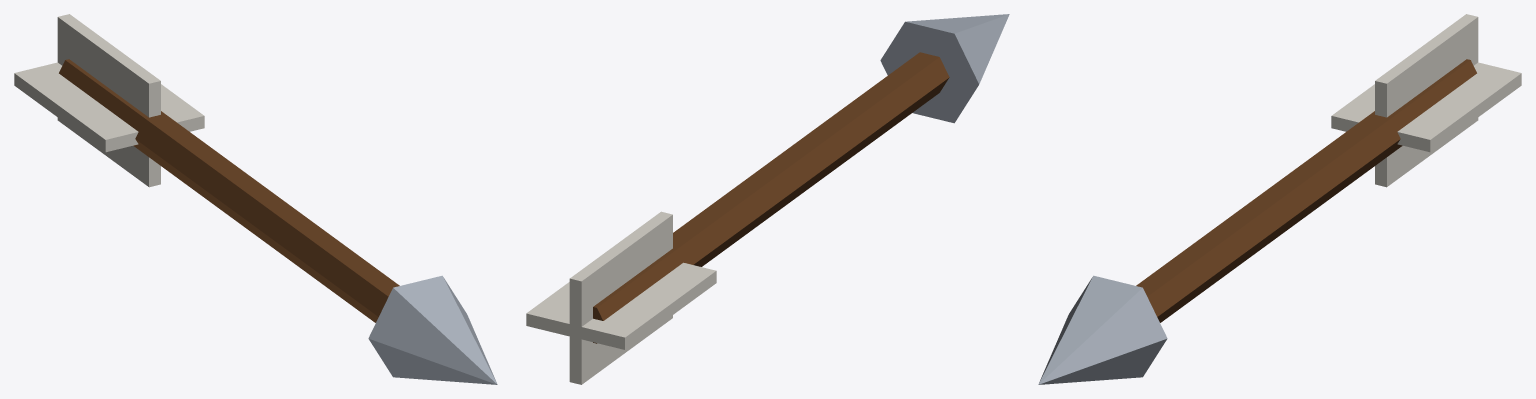
The model's file is flecha.glb.
The picture shows the model from 3 angles, left to right: view 1: azimuth 30°, elevation 25°; view 2: azimuth 150°, elevation 25°; view 3: azimuth 330°, elevation 25°; orthographic projection.
Parts seen in each view (by area): view 1: corpo; view 2: corpo; view 3: corpo.
Part boxes in pixels (x1,y1,x2,y2): corpo: (14, 14, 497, 384); corpo: (526, 14, 1009, 384); corpo: (1038, 14, 1521, 384).
Bounding box in the file's own units: 0.1 × 0.1 × 0.76.
